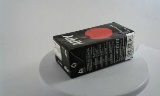appy: (48, 20, 127, 78)
